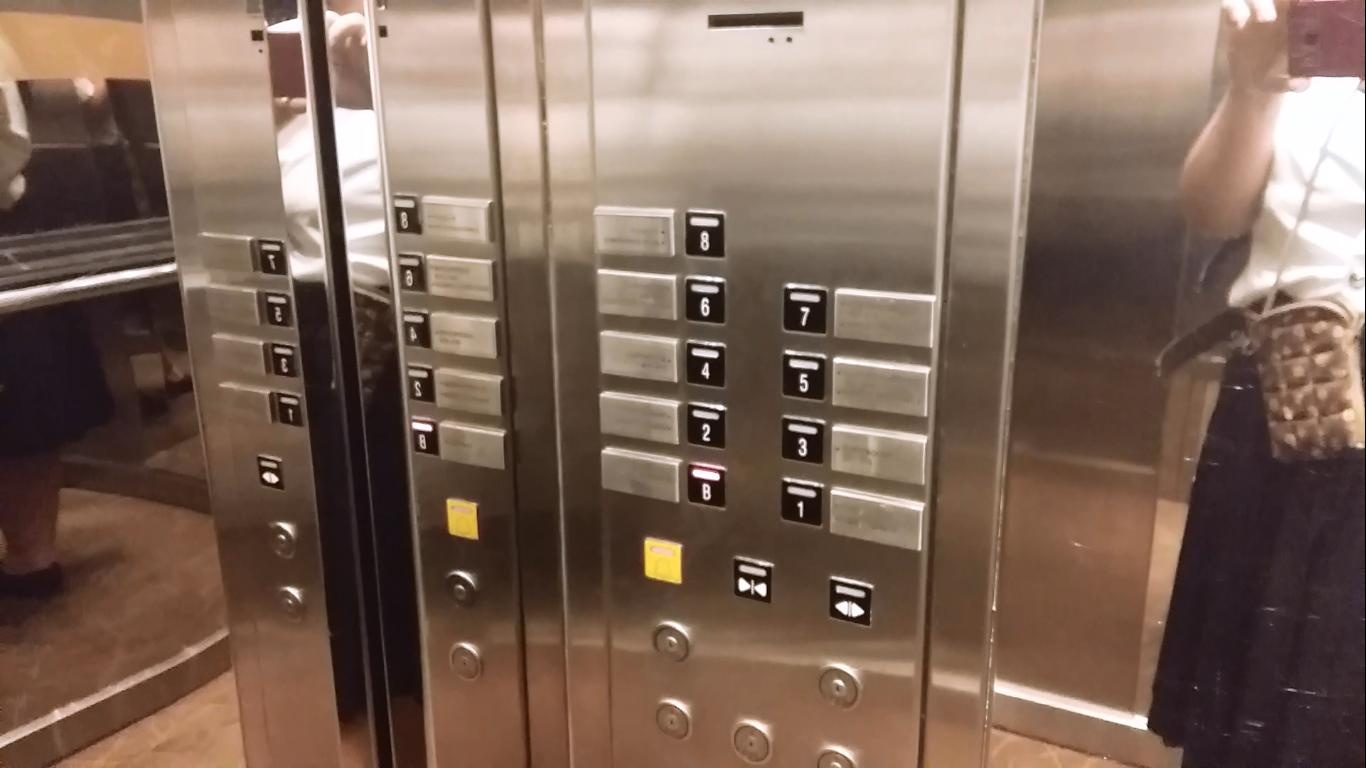1: (780, 476, 824, 529)
2: (687, 401, 728, 452)
3: (781, 414, 826, 466)
4: (685, 339, 728, 390)
5: (780, 349, 828, 404)
6: (684, 275, 728, 326)
7: (779, 281, 829, 338)
8: (685, 209, 726, 260), (391, 192, 423, 235)
B: (687, 461, 728, 512)
alarm: (643, 537, 684, 585), (446, 498, 479, 540)
close: (732, 555, 775, 605)
keyhole: (731, 718, 775, 767), (817, 662, 863, 708), (650, 621, 694, 663), (655, 698, 692, 741), (449, 642, 484, 681), (445, 569, 480, 607), (267, 521, 300, 560), (274, 585, 307, 623)
open: (828, 574, 874, 629), (256, 454, 285, 489)
unknown: (397, 251, 427, 294), (405, 363, 435, 404), (402, 307, 431, 349), (257, 236, 287, 276), (262, 290, 294, 327), (274, 389, 304, 428), (410, 416, 439, 455), (268, 341, 297, 377)
